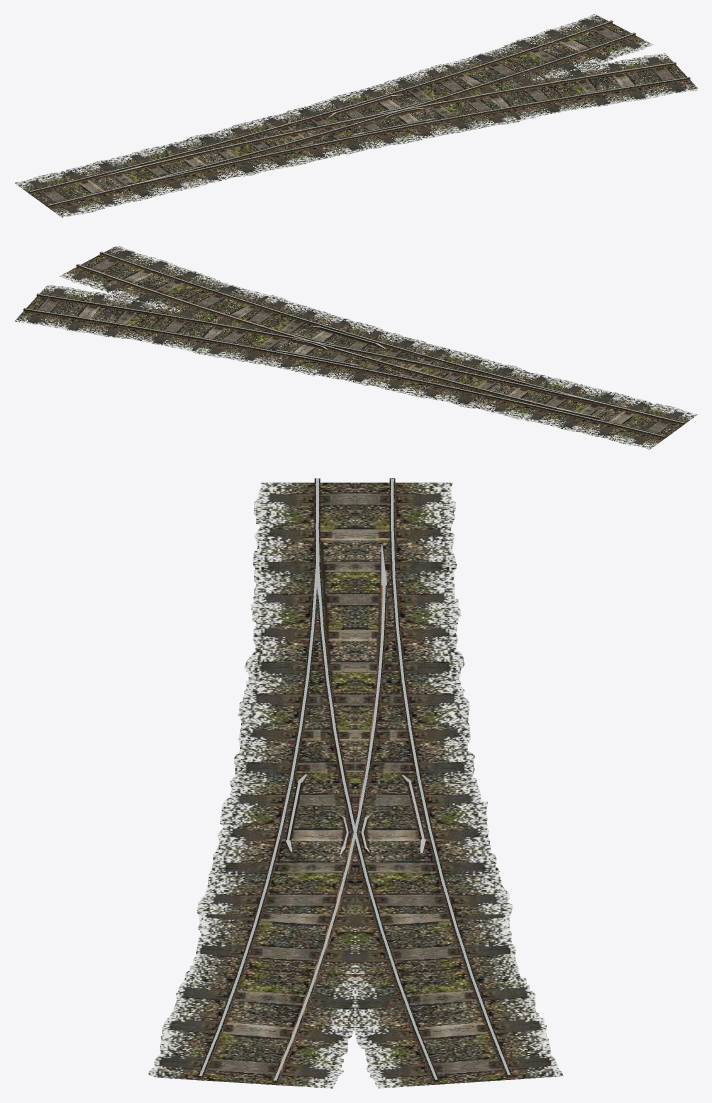
3 renders of one model, top to bottom at view 1: azimuth 30°, elevation 25°; view 2: azimuth 150°, elevation 25°; view 3: azimuth 270°, elevation 25°, orthographic. The views are drawn at different scales.
Parts seen in each view (by area): view 1: group_0 (×9); view 2: group_0 (×9); view 3: group_0 (×9).
Part boxes in pixels (x1,y1,x2,y2): group_0 (×9): [14, 14, 697, 217]; group_0 (×9): [14, 246, 697, 449]; group_0 (×9): [148, 478, 563, 1088].
Size of the model in its own units: 16333 by 4732 by 54.33.
